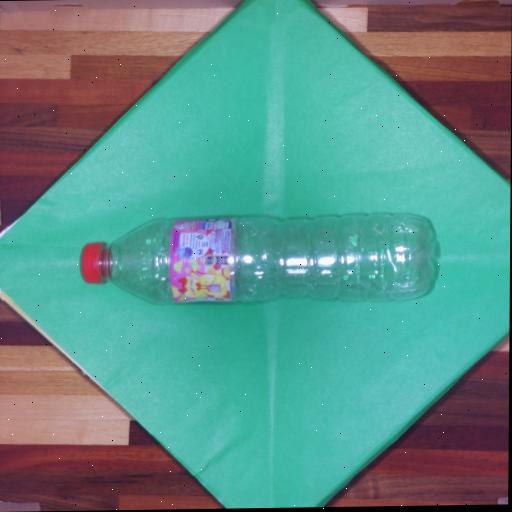bottle: (71, 193, 451, 320)
